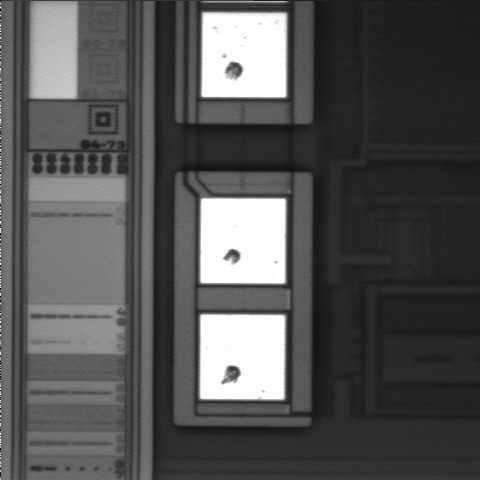pad: (200, 198, 286, 283), (200, 315, 285, 399), (202, 13, 286, 97)
